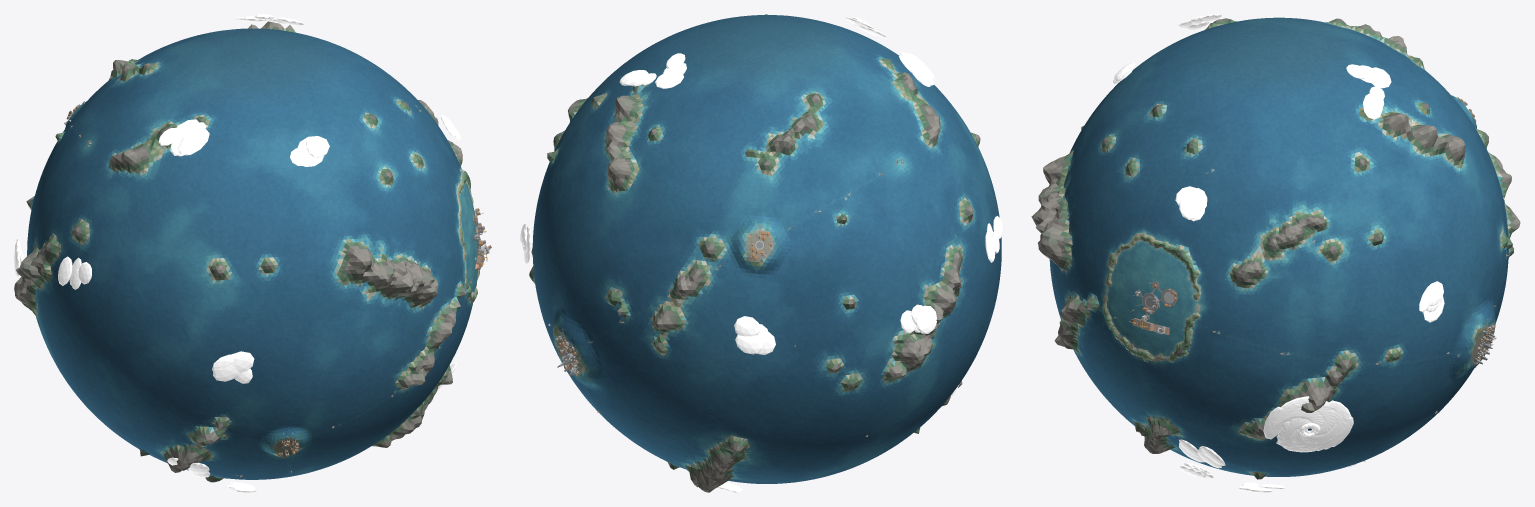
The model's file is azure.glb.
3 renders of one model, left to right at view 1: azimuth 30°, elevation 25°; view 2: azimuth 150°, elevation 25°; view 3: azimuth 270°, elevation 25°, orthographic. The views are drawn at different scales.
Parts seen in each view (by area): view 1: Azure, Clouds, RingPatch, Folly; view 2: Azure, Clouds; view 3: Azure, RingPatch, Clouds, Folly.
Part boxes in pixels (x1,y1,x2,y2): Azure: (14, 21, 478, 482); Clouds: (14, 14, 461, 492); RingPatch: (454, 167, 481, 301); Folly: (472, 208, 491, 270); Azure: (529, 14, 1001, 492); Clouds: (520, 17, 1002, 492); Azure: (1031, 17, 1520, 479); RingPatch: (1098, 227, 1210, 361); Clouds: (1113, 14, 1444, 492); Folly: (1129, 281, 1177, 334).
Bounding box in the file's own units: 209 × 204 × 213.
